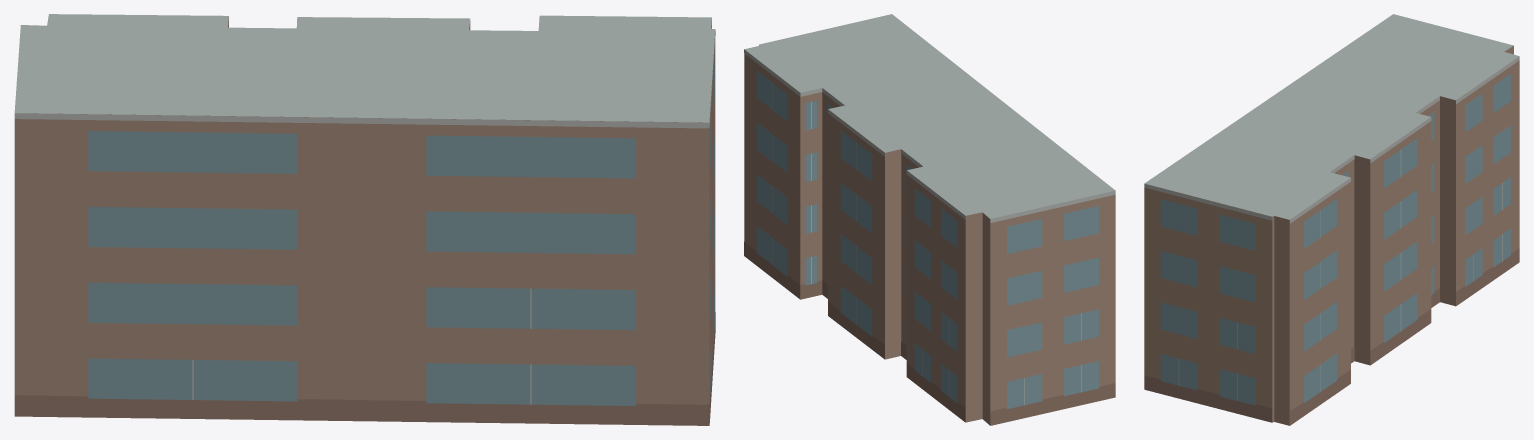
The model's file is survey-upis-32671374.glb.
3 renders of one model, left to right at view 1: azimuth 30°, elevation 25°; view 2: azimuth 150°, elevation 25°; view 3: azimuth 270°, elevation 25°, orthographic. The views are drawn at different scales.
Parts seen in each view (by area): view 1: survey-upis-32671374.tmp; view 2: survey-upis-32671374.tmp; view 3: survey-upis-32671374.tmp.
Part boxes in pixels (box(x1,y1,x2,y2)): survey-upis-32671374.tmp: box(14, 14, 715, 425); survey-upis-32671374.tmp: box(744, 14, 1115, 425); survey-upis-32671374.tmp: box(1144, 14, 1519, 425).
Bounding box in the file's own units: 26.8 × 12.5 × 20.65.
